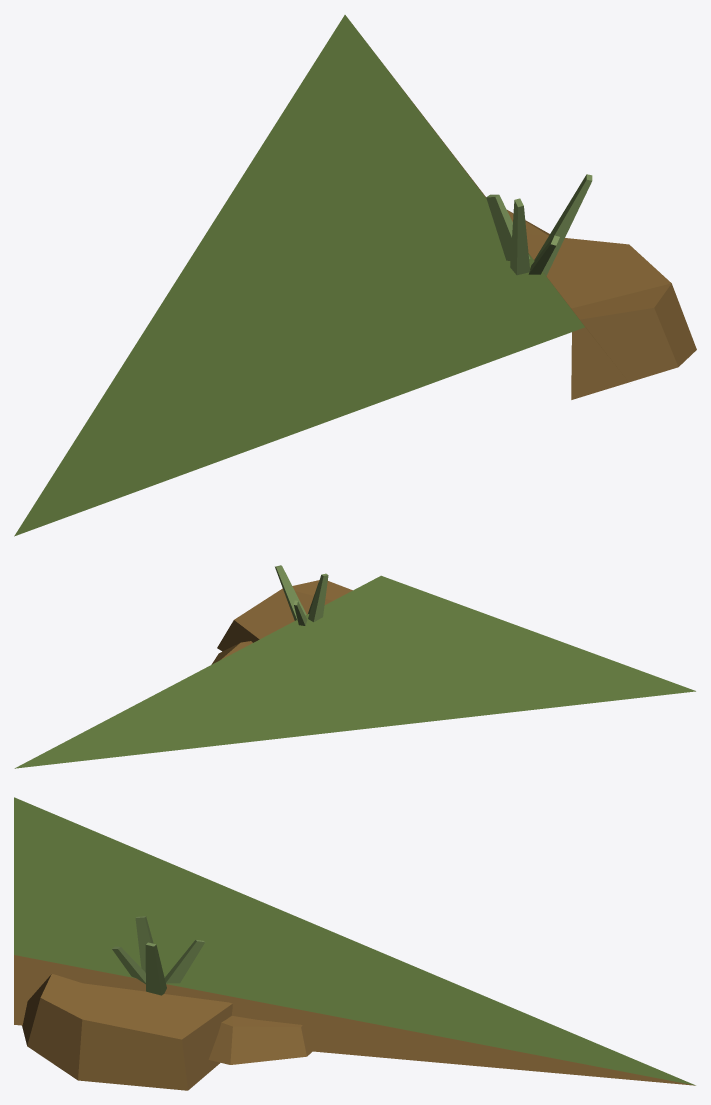
The model's file is SF_Env_GrassEdge_End_01.fbx.
3 views of the same model, one above another, from view 1: azimuth 30°, elevation 25°; view 2: azimuth 150°, elevation 25°; view 3: azimuth 270°, elevation 25° (orthographic). The views are drawn at different scales.
Visible parts, largest first — view 1: SF_Env_GrassEdge_End_01; view 2: SF_Env_GrassEdge_End_01; view 3: SF_Env_GrassEdge_End_01.
Part boxes in pixels (x1,y1,x2,y2): SF_Env_GrassEdge_End_01: [14, 15, 696, 536]; SF_Env_GrassEdge_End_01: [14, 565, 695, 768]; SF_Env_GrassEdge_End_01: [14, 797, 695, 1090].
Size of the model in its own units: 10 by 1.85 by 10.
